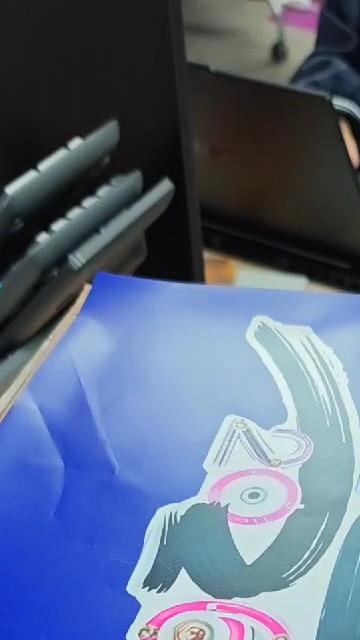B_R1: (124, 311, 360, 640)
